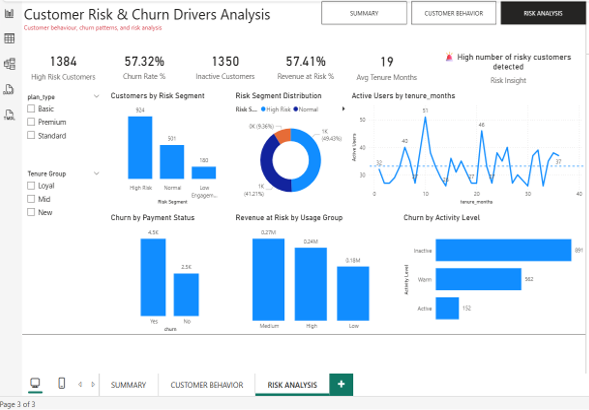

The dashboard page shown, as its layout file describes it:
{"tool":"powerbi","page":{"name":"RISK ANALYSIS","canvas":[1280,720],"ordinal":2},"visuals":[{"type":"card","fields":{"Values":["Calculations.High Risk Customers"]},"box":[5.7,88.9,177.1,98.6],"z":0},{"type":"card","fields":{"Values":["Calculations.Inactive Customers"]},"box":[372.7,89.5,177,97.4],"z":1000},{"type":"card","fields":{"Values":["Calculations.Churn Rate %"]},"box":[189.3,89.5,177,97.4],"z":2000},{"type":"card","fields":{"Values":["Calculations.Risk Insight"]},"box":[927.1,95.7,352.9,91.4],"z":3000},{"type":"slicer","fields":{"Values":["Customers.Tenure Group"]},"box":[0,360,188.6,138.6],"z":4000},{"type":"slicer","fields":{"Values":["Customers.plan_type"]},"box":[0,192.9,188.6,128.6],"z":5000},{"type":"clusteredColumnChart","title":"Customers by Risk Segment","fields":{"Y":["Calculations.Churned Users"],"Category":["Customers.Risk Segment"]},"box":[197.1,192.9,280,251.4],"z":6000},{"type":"textbox","box":[0,0,757.1,82.9],"z":7000},{"type":"clusteredColumnChart","title":"Churn by Payment Status","fields":{"Y":["Sum(Customers.payment_failures)"],"Category":["Customers.churn"]},"box":[197.6,456.9,279.9,263.5],"z":8000},{"type":"clusteredBarChart","title":"Churn by Activity Level","fields":{"Category":["Customers.Activity Level"],"Y":["Calculations.Churned Users"]},"box":[861.8,456.9,418.5,263.5],"z":9000},{"type":"card","fields":{"Values":["Calculations.Avg Tenure Months"]},"box":[740,90,177.1,97.1],"z":10000},{"type":"card","fields":{"Values":["Calculations.Revenue at Risk %"]},"box":[556.2,89.5,177,97.4],"z":11000},{"type":"clusteredColumnChart","title":"Revenue at Risk by Usage Group","fields":{"Category":["Customers.Usage Group"],"Y":["Calculations.Churned Revenue"]},"box":[480.3,456.9,355.4,263.5],"z":12000},{"type":"donutChart","title":"Risk Segment Distribution","fields":{"Category":["Customers.Risk Segment"],"Y":["Calculations.Total Users"]},"box":[480,192.9,260,251.4],"z":13000},{"type":"lineChart","fields":{"Category":["Customers.tenure_months"],"Y":["Calculations.Active Users"]},"box":[744.3,192.9,535.7,251.4],"z":15000},{"type":"pageNavigator","box":[680,0,600,50],"z":16000}]}

Visuals, with their boxes on the page's 1280x720 design canvas (x1, y1, x2, y2). These are canvas units, not pixel positions in the 589x410 screenshot, which may show the page scaled, cropped or inside an application window:
card - Calculations.High Risk Customers: Rect(6, 89, 183, 188)
card - Calculations.Inactive Customers: Rect(373, 90, 550, 187)
card - Calculations.Churn Rate %: Rect(189, 90, 366, 187)
card - Calculations.Risk Insight: Rect(927, 96, 1280, 187)
slicer - Customers.Tenure Group: Rect(0, 360, 189, 499)
slicer - Customers.plan_type: Rect(0, 193, 189, 322)
"Customers by Risk Segment" clusteredColumnChart: Rect(197, 193, 477, 444)
textbox: Rect(0, 0, 757, 83)
"Churn by Payment Status" clusteredColumnChart: Rect(198, 457, 478, 720)
"Churn by Activity Level" clusteredBarChart: Rect(862, 457, 1280, 720)
card - Calculations.Avg Tenure Months: Rect(740, 90, 917, 187)
card - Calculations.Revenue at Risk %: Rect(556, 90, 733, 187)
"Revenue at Risk by Usage Group" clusteredColumnChart: Rect(480, 457, 836, 720)
"Risk Segment Distribution" donutChart: Rect(480, 193, 740, 444)
lineChart - Customers.tenure_months x Calculations.Active Users: Rect(744, 193, 1280, 444)
pageNavigator: Rect(680, 0, 1280, 50)
